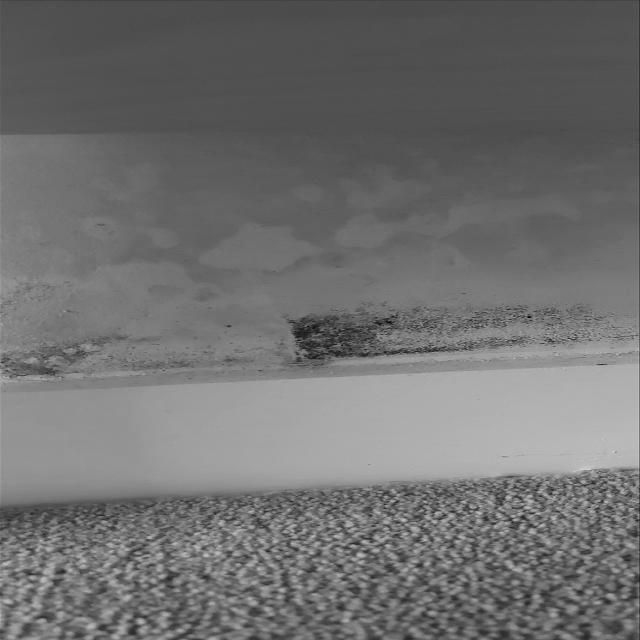stain marks: (1, 135, 640, 387)
